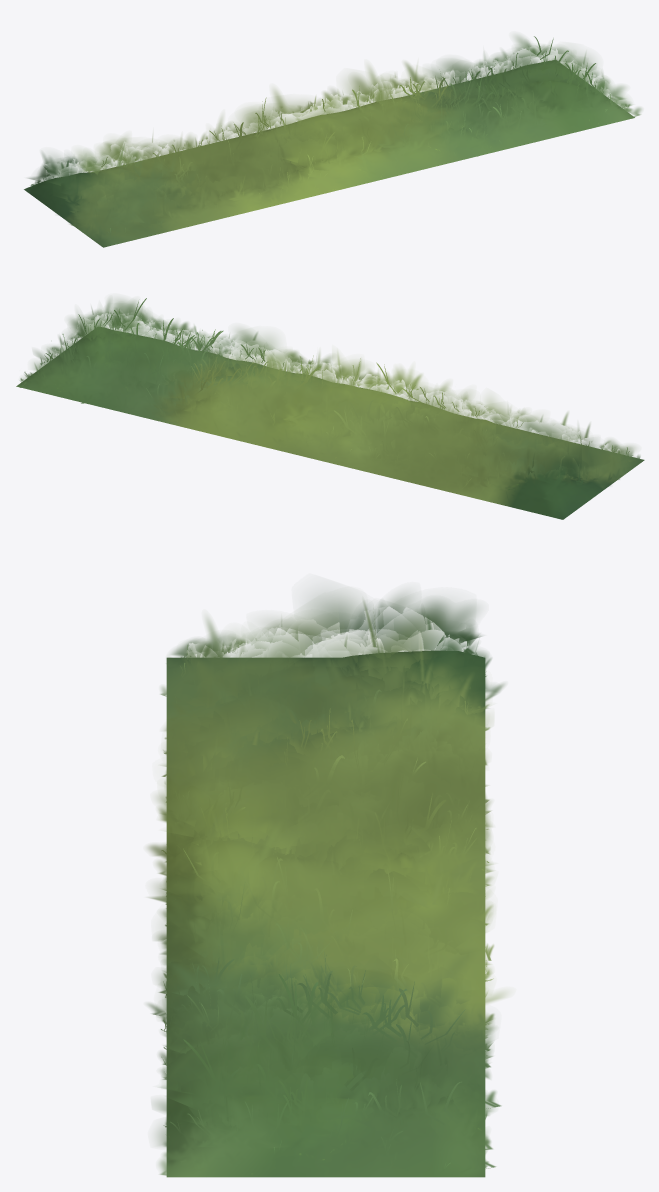
The model's file is lawn-2.7x0.7.glb.
The picture shows the model from 3 angles, top to bottom: view 1: azimuth 30°, elevation 25°; view 2: azimuth 150°, elevation 25°; view 3: azimuth 270°, elevation 25°; orthographic projection. The views are drawn at different scales.
Visible parts, largest first — view 1: Kowloon painted lawn; view 2: Kowloon painted lawn; view 3: Kowloon painted lawn.
Boxes of the visible parts, x1=… form: Kowloon painted lawn: x1=24, y1=35, x2=641, y2=247; Kowloon painted lawn: x1=16, y1=298, x2=644, y2=519; Kowloon painted lawn: x1=147, y1=591, x2=506, y2=1177.
Size of the model in its own units: 2.85 by 0.3192 by 0.8782.
3 materials, 2 textured.
